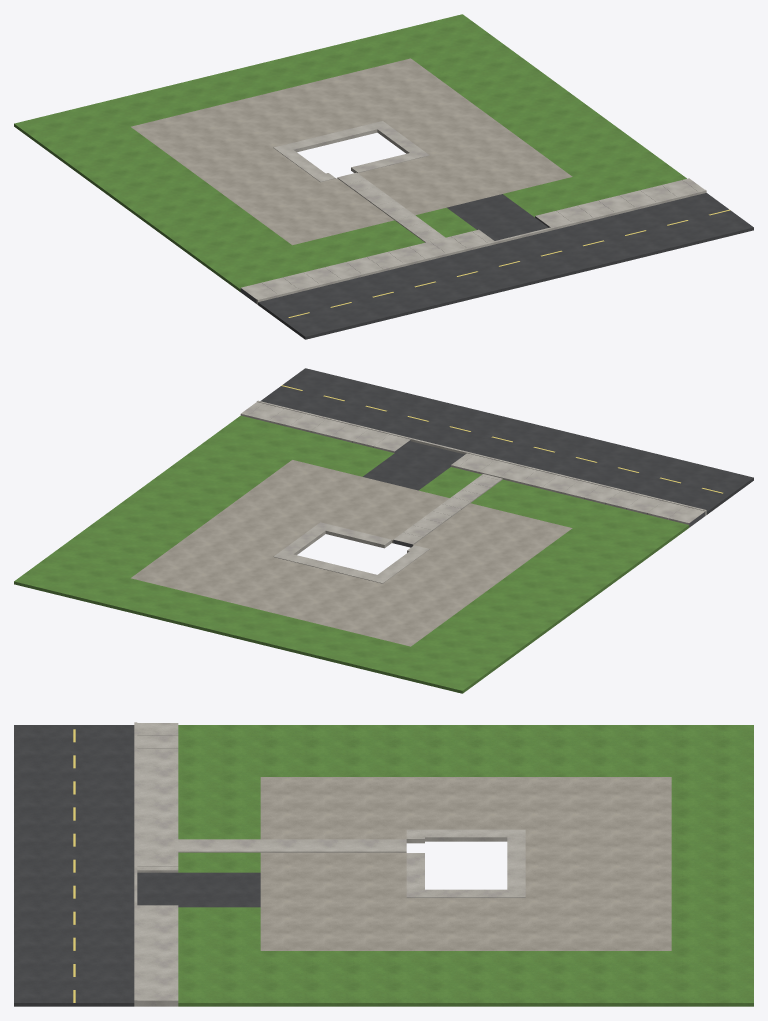
Rendered from site.glb.
3 renders of one model, top to bottom at view 1: azimuth 30°, elevation 25°; view 2: azimuth 150°, elevation 25°; view 3: azimuth 270°, elevation 25°, orthographic. The views are drawn at different scales.
Visible parts, largest first — view 1: site_grass, site_gravel, site_asphalt, site_concrete; view 2: site_grass, site_gravel, site_asphalt, site_concrete; view 3: site_grass, site_gravel, site_asphalt, site_concrete.
Part boxes in pixels (x1,y1,x2,y2): site_grass: (14, 14, 686, 291); site_gravel: (131, 58, 572, 245); site_asphalt: (258, 193, 753, 339); site_concrete: (241, 121, 706, 304); site_grass: (14, 415, 689, 693); site_gravel: (131, 460, 572, 646); site_asphalt: (260, 368, 753, 514); site_concrete: (240, 400, 706, 583); site_grass: (178, 725, 753, 1006); site_gravel: (260, 777, 671, 950); site_asphalt: (14, 725, 260, 1006); site_concrete: (134, 722, 525, 1006).
Size of the model in its own units: 32 by 0.35 by 36.
Materials: 6 (4 with a texture image).
